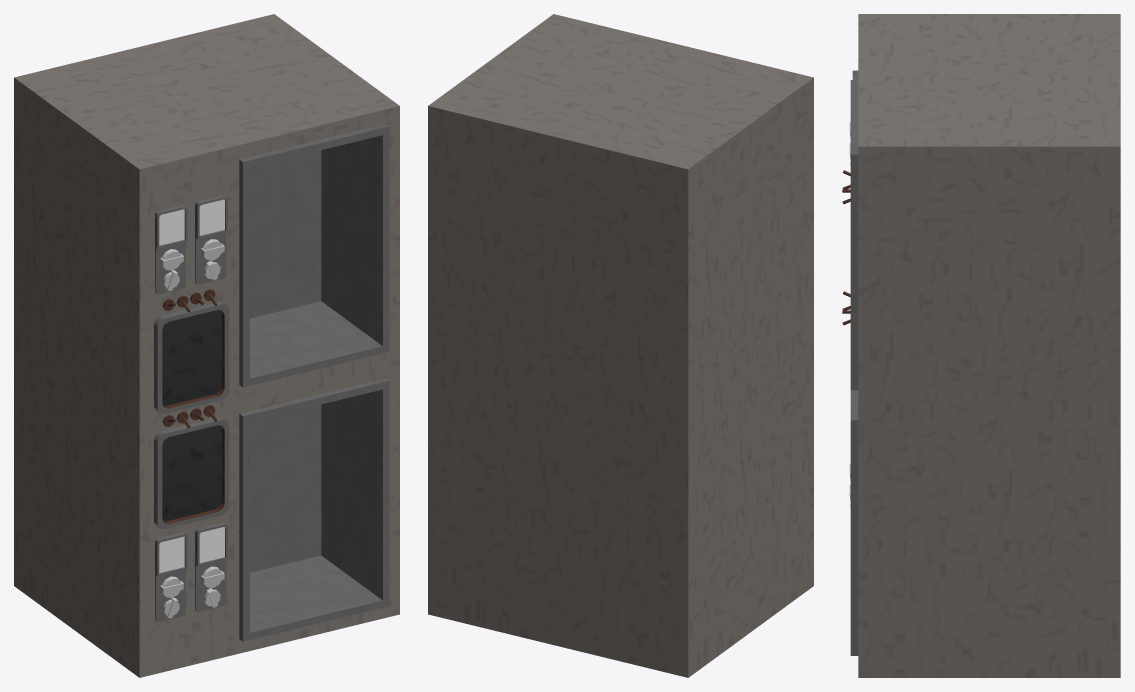
The model's file is ComputerTwoCameras.fbx.
The picture shows the model from 3 angles, left to right: view 1: azimuth 30°, elevation 25°; view 2: azimuth 150°, elevation 25°; view 3: azimuth 270°, elevation 25°; orthographic projection. The views are drawn at different scales.
Visible parts, largest first — view 1: Cube.112; view 2: Cube.112; view 3: Cube.112.
Boxes of the visible parts, x1,y1,x2,y2 form: Cube.112: (14, 14, 399, 677); Cube.112: (428, 14, 813, 677); Cube.112: (842, 14, 1120, 677).
Bounding box in the file's own units: 193 × 360 × 171.
